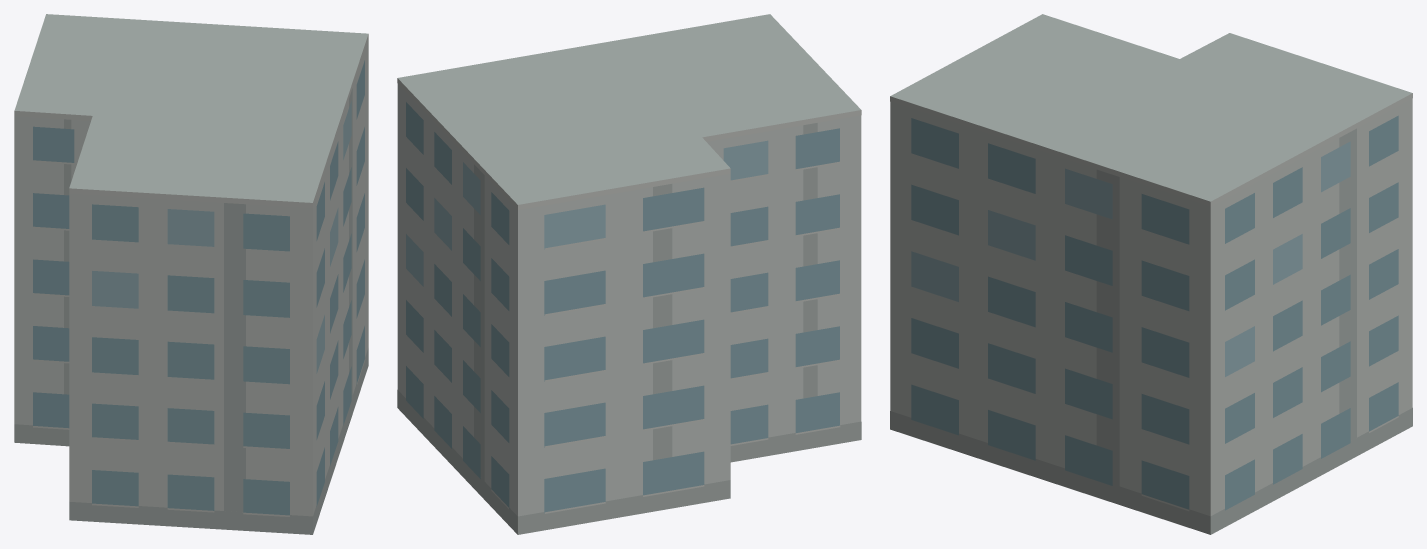
The model's file is survey-upis-32830454.glb.
3 renders of one model, left to right at view 1: azimuth 30°, elevation 25°; view 2: azimuth 150°, elevation 25°; view 3: azimuth 270°, elevation 25°, orthographic.
Visible parts, largest first — view 1: survey-upis-32830454.tmp; view 2: survey-upis-32830454.tmp; view 3: survey-upis-32830454.tmp.
Boxes of the visible parts, left/top/right/bottom form: survey-upis-32830454.tmp: left=14, top=14, right=368, bottom=534; survey-upis-32830454.tmp: left=397, top=14, right=861, bottom=534; survey-upis-32830454.tmp: left=890, top=14, right=1412, bottom=534.
Bounding box in the file's own units: 18.4 × 15.23 × 21.65.
